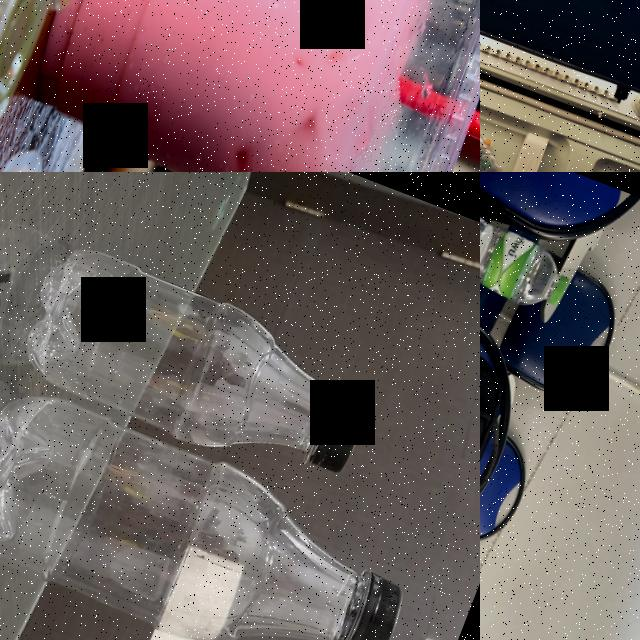bottle: (0, 378, 429, 640), (0, 235, 388, 506), (480, 191, 581, 317), (480, 78, 525, 172)
cup: (0, 0, 480, 172)
